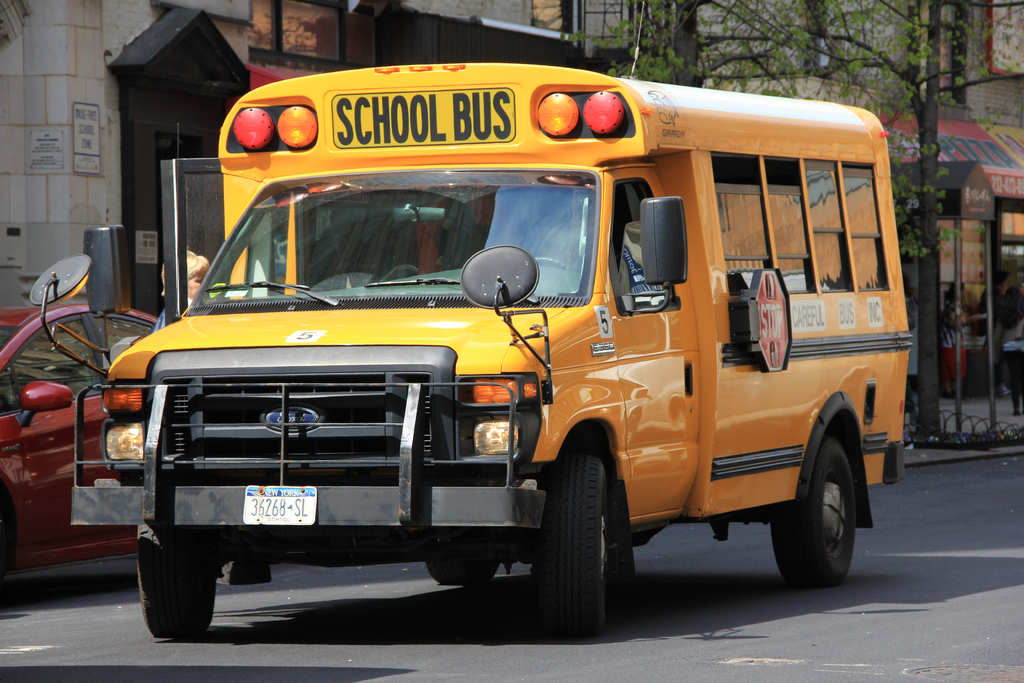Bus: (70, 62, 912, 637)
